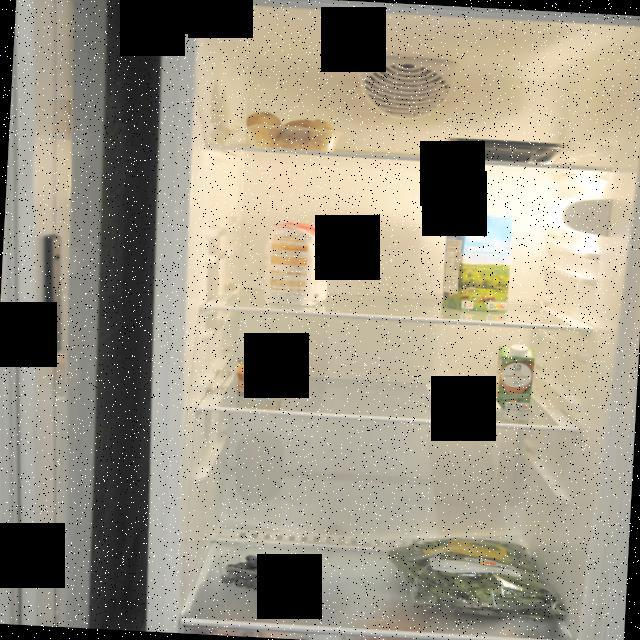Huevos: (424, 368, 500, 404)
Leche: (444, 212, 520, 316)
Patata: (242, 111, 344, 151)
